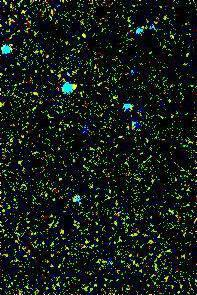star: (60, 71, 90, 101)
